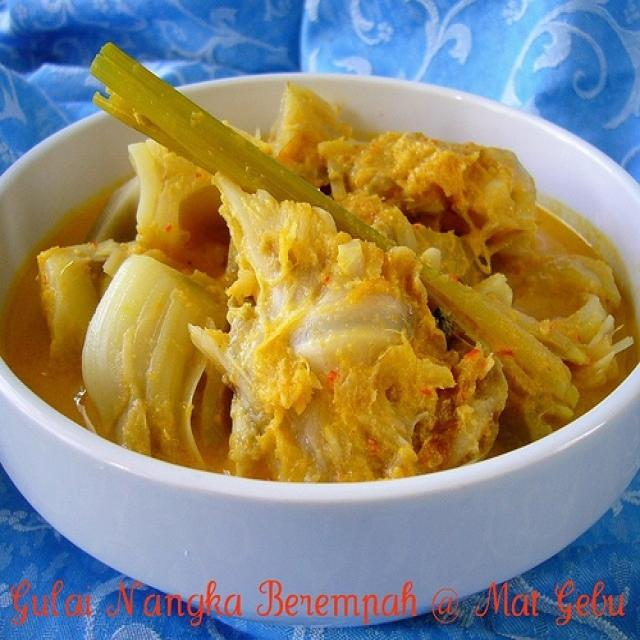熟制海鲜: (15, 45, 638, 618)
